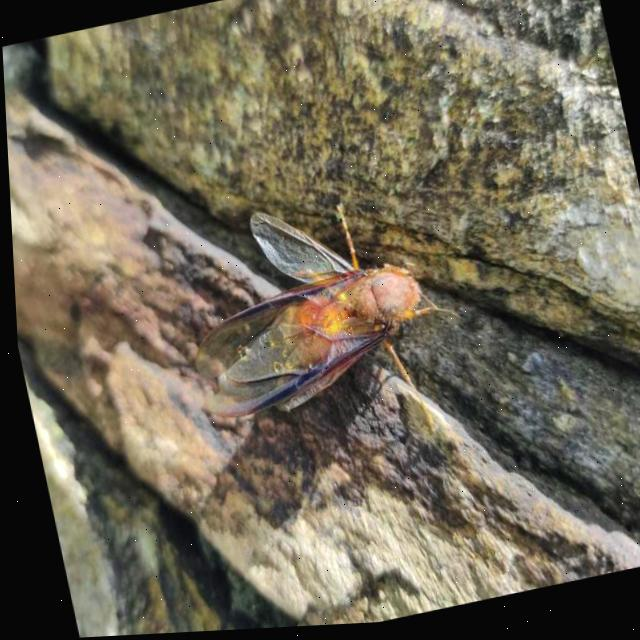Alive-Male-Alate: (157, 176, 482, 485)
